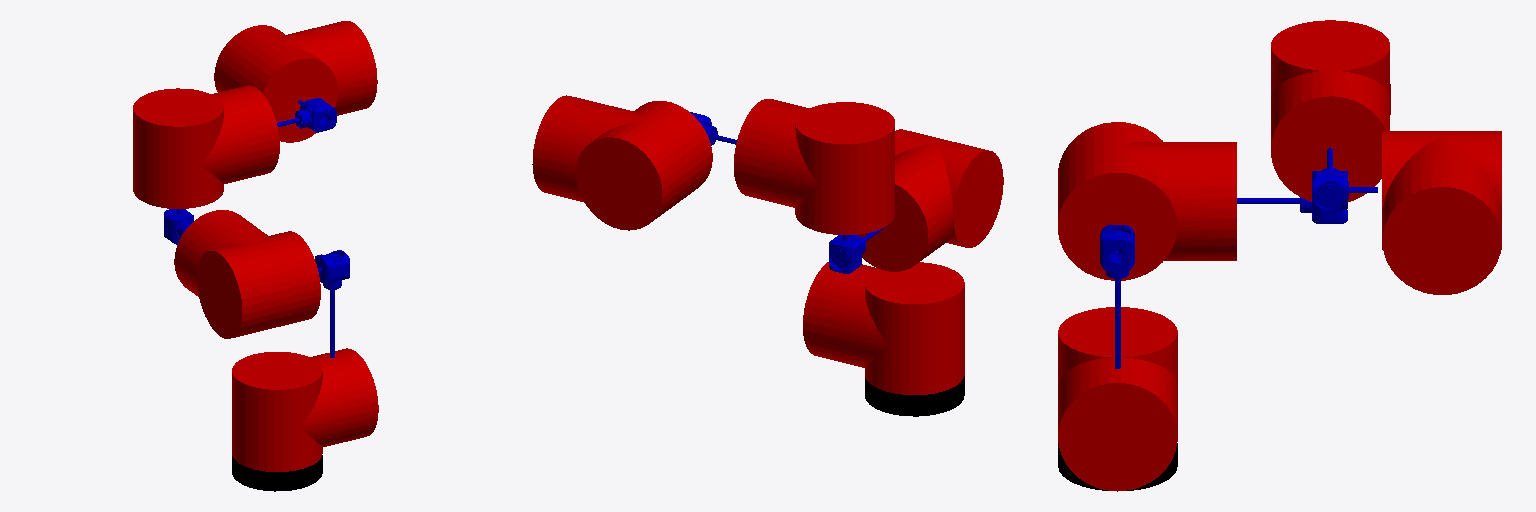
robot.urdf — node100:
<?xml version="1.0"?>
<robot  name="node100" >
 <material  name="blue" >
  <color  rgba="0 0 0.8 1.0" />
 </material>
 <material  name="red" >
  <color  rgba="0.8 0 0 1.0" />
 </material>
 <material  name="black" >
  <color  rgba="0.0 0.0 0.0 1.0" />
 </material>
 <link  name="root_mod" >
  <visual >
   <origin  rpy="0 0 0"  xyz="0 0 0" />
   <material  name="black" />
   <geometry >
    <cylinder  length="0.02"  radius="0.05" />
   </geometry>
  </visual>
 </link>
 <link  name="jointMod_1" >
  <visual >
   <origin  rpy="1.5707963267948963 0.0 0.0"  xyz="0.0 7.771561172376096e-19 0.0035" />
   <material  name="red" />
   <geometry >
    <mesh  filename="./meshes/j_module.obj"  scale="0.001 0.001 0.001" />
   </geometry>
  </visual>
 </link>
 <joint  type="revolute"  name="joint_1_revolute" >
  <parent  link="root_mod" />
  <child  link="jointMod_1" />
  <origin  rpy="0 0 0"  xyz="0.0 0.0 0.01" />
  <axis  xyz="0.0 0.0 1.0" />
 </joint>
 <transmission  name="act_joint_1_revolute" >
  <type  xmltext="SimpleTransmission" >
   SimpleTransmission
  </type>
  <actuator  name="act_joint_1_revolute" >
   <mechanicalreduction  xmltext="1" >
    1
   </mechanicalreduction>
  </actuator>
  <joint  name="joint_1_revolute" />
 </transmission>
 <link  name="linkMod_2" >
  <visual >
   <origin  rpy="1.5707963240855651 -1.2497703982816688e-08 -3.141592641092089"  xyz="0.03999999999999998 4.999081662324221e-10 -4.999081648780052e-10" />
   <material  name="blue" />
   <geometry >
    <mesh  filename="./meshes/l1_module.obj"  scale="0.001 0.001 0.001" />
   </geometry>
  </visual>
 </link>
 <joint  type="revolute"  name="joint_2_revolute" >
  <parent  link="jointMod_1" />
  <child  link="linkMod_2" />
  <origin  rpy="0 0 0"  xyz="0.03 -0.0002999999999999882 0.053000000000000005" />
  <axis  xyz="1.0 0.0 0.0" />
 </joint>
 <transmission  name="act_joint_2_revolute" >
  <type  xmltext="SimpleTransmission" >
   SimpleTransmission
  </type>
  <actuator  name="act_joint_2_revolute" >
   <mechanicalreduction  xmltext="1" >
    1
   </mechanicalreduction>
  </actuator>
  <joint  name="joint_2_revolute" />
 </transmission>
 <link  name="jointMod_3" >
  <visual >
   <origin  rpy="0.0 0.0 1.5707963267948963"  xyz="-0.0035 7.771561172376096e-19 0.0" />
   <material  name="red" />
   <geometry >
    <mesh  filename="./meshes/j_module.obj"  scale="0.001 0.001 0.001" />
   </geometry>
  </visual>
 </link>
 <joint  type="fixed"  name="joint_3_fixed" >
  <parent  link="linkMod_2" />
  <child  link="jointMod_3" />
  <origin  rpy="0 0 0"  xyz="1.9996326608429094e-09 -4.3349299788124236e-10 0.15999999999999995" />
  <axis  xyz="-1.0 -0.0 0.0" />
 </joint>
 <link  name="linkMod_4" >
  <visual >
   <origin  rpy="-3.141592641092089 -1.5707963009853283 0.0"  xyz="-1.8496602150599611e-09 0.14799999999999994 1.84966021004862e-09" />
   <material  name="blue" />
   <geometry >
    <mesh  filename="./meshes/l3_module.obj"  scale="0.001 0.001 0.001" />
   </geometry>
  </visual>
 </link>
 <joint  type="revolute"  name="joint_4_revolute" >
  <parent  link="jointMod_3" />
  <child  link="linkMod_4" />
  <origin  rpy="0 0 0"  xyz="-0.053 0.03000000000000001 0.0003" />
  <axis  xyz="0.0 1.0 0.0" />
 </joint>
 <transmission  name="act_joint_4_revolute" >
  <type  xmltext="SimpleTransmission" >
   SimpleTransmission
  </type>
  <actuator  name="act_joint_4_revolute" >
   <mechanicalreduction  xmltext="1" >
    1
   </mechanicalreduction>
  </actuator>
  <joint  name="joint_4_revolute" />
 </transmission>
 <link  name="jointMod_5" >
  <visual >
   <origin  rpy="1.5707963267948963 0.0 0.0"  xyz="0.0 7.771561172376096e-19 0.0035" />
   <material  name="red" />
   <geometry >
    <mesh  filename="./meshes/j_module.obj"  scale="0.001 0.001 0.001" />
   </geometry>
  </visual>
 </link>
 <joint  type="fixed"  name="joint_5_fixed" >
  <parent  link="linkMod_4" />
  <child  link="jointMod_5" />
  <origin  rpy="0 0 0"  xyz="-1.958033437884919e-09 0.14799999950009177 0.0400000018496602" />
  <axis  xyz="-0.0 -0.0 1.0" />
 </joint>
 <link  name="linkMod_6" >
  <visual >
   <origin  rpy="0.0 0.0 1.5707963267948963"  xyz="0.148 -3.286260152890463e-17 0.0" />
   <material  name="blue" />
   <geometry >
    <mesh  filename="./meshes/l3_module.obj"  scale="0.001 0.001 0.001" />
   </geometry>
  </visual>
 </link>
 <joint  type="revolute"  name="joint_6_revolute" >
  <parent  link="jointMod_5" />
  <child  link="linkMod_6" />
  <origin  rpy="0 0 0"  xyz="0.03 -0.0002999999999999882 0.053000000000000005" />
  <axis  xyz="1.0 0.0 0.0" />
 </joint>
 <transmission  name="act_joint_6_revolute" >
  <type  xmltext="SimpleTransmission" >
   SimpleTransmission
  </type>
  <actuator  name="act_joint_6_revolute" >
   <mechanicalreduction  xmltext="1" >
    1
   </mechanicalreduction>
  </actuator>
  <joint  name="joint_6_revolute" />
 </transmission>
 <link  name="jointMod_7" >
  <visual >
   <origin  rpy="0.0 0.0 0.0"  xyz="0.0 0.0035 0.0" />
   <material  name="red" />
   <geometry >
    <mesh  filename="./meshes/j_module.obj"  scale="0.001 0.001 0.001" />
   </geometry>
  </visual>
 </link>
 <joint  type="fixed"  name="joint_7_fixed" >
  <parent  link="linkMod_6" />
  <child  link="jointMod_7" />
  <origin  rpy="0 0 0"  xyz="0.148 0.039999999999999966 0.0" />
  <axis  xyz="0.0 1.0 0.0" />
 </joint>
 <link  name="eef" />
 <joint  type="fixed"  name="eef_joint" >
  <parent  link="jointMod_7" />
  <child  link="eef" />
  <origin  rpy="0 0 0"  xyz="0.03 0.053000000000000005 0.0003" />
  <axis  xyz="1.0 0.0 0.0" />
 </joint>
</robot>

--- Facts derived from the render (not from the file) ---
3 views of the same robot in one strip: view 1: azimuth 30°, elevation 25°; view 2: azimuth 150°, elevation 25°; view 3: azimuth 270°, elevation 25° (orthographic).
Model node100 with 9 links and 8 joints (4 revolute, 4 fixed), rooted at root_mod, posed every joint at zero.
Links seen in each view (by area): view 1: jointMod_5, jointMod_1, jointMod_3, jointMod_7, root_mod, linkMod_2, linkMod_6, linkMod_4; view 2: jointMod_5, jointMod_7, jointMod_1, jointMod_3, root_mod, linkMod_4; view 3: jointMod_3, jointMod_1, jointMod_7, jointMod_5, linkMod_2, linkMod_6, linkMod_4, root_mod.
Link boxes in pixels (<box>): jointMod_5: <box>133,85,279,208</box>; jointMod_1: <box>232,348,378,471</box>; jointMod_3: <box>174,210,320,338</box>; jointMod_7: <box>214,21,377,142</box>; root_mod: <box>232,455,322,491</box>; linkMod_2: <box>315,250,349,357</box>; linkMod_6: <box>277,98,336,132</box>; linkMod_4: <box>164,209,193,244</box>; jointMod_5: <box>734,99,894,234</box>; jointMod_7: <box>532,95,712,230</box>; jointMod_1: <box>803,262,964,394</box>; jointMod_3: <box>858,129,1003,271</box>; root_mod: <box>865,376,964,416</box>; linkMod_4: <box>829,226,886,273</box>; jointMod_3: <box>1058,122,1236,280</box>; jointMod_1: <box>1058,307,1177,490</box>; jointMod_7: <box>1382,131,1501,294</box>; jointMod_5: <box>1271,20,1390,201</box>; linkMod_2: <box>1100,225,1134,368</box>; linkMod_6: <box>1312,148,1377,209</box>; linkMod_4: <box>1237,197,1347,223</box>; root_mod: <box>1058,443,1177,491</box>.
Bounding box of the posed robot: 0.3285 × 0.371 × 0.3768 m (x, y, z).
Meshes: 3 distinct files referenced, 7 mesh visuals loaded (3 OBJ).